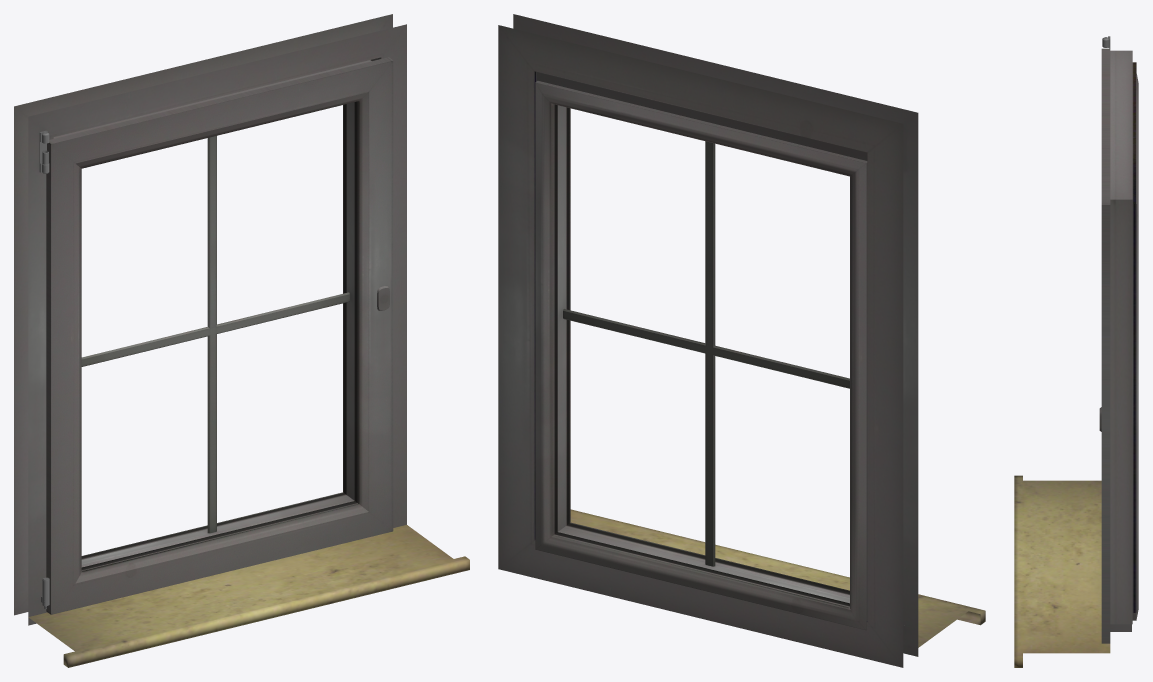
The model's file is window2.obj.
3 renders of one model, left to right at view 1: azimuth 30°, elevation 25°; view 2: azimuth 150°, elevation 25°; view 3: azimuth 270°, elevation 25°, orthographic. The views are drawn at different scales.
Parts seen in each view (by area): view 1: Plane, Plane.001; view 2: Plane.001, Plane; view 3: Plane.001, Plane.
Boxes of the visible parts, x1,y1,x2,y2 form: Plane: [42, 57, 393, 614]; Plane.001: [14, 14, 469, 667]; Plane.001: [498, 14, 985, 667]; Plane: [535, 72, 867, 630]; Plane.001: [1014, 36, 1136, 667]; Plane: [1099, 48, 1138, 643].
Bounding box in the file's own units: 222 × 270 × 63.84.
